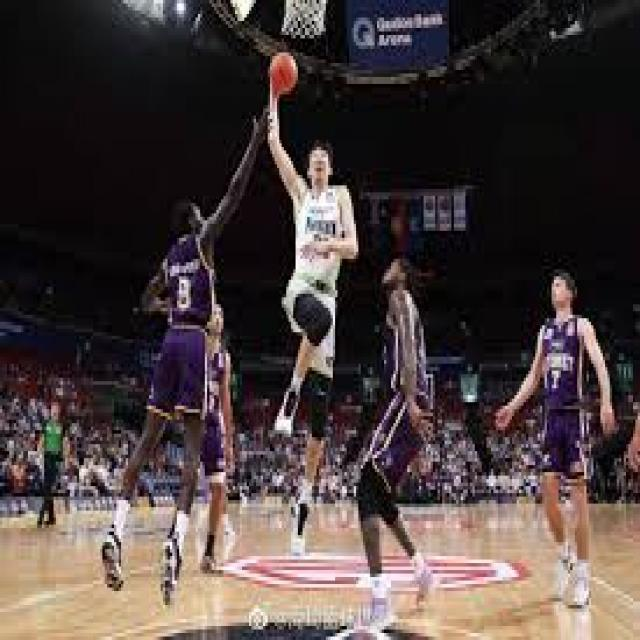rim: (272, 52, 298, 94)
